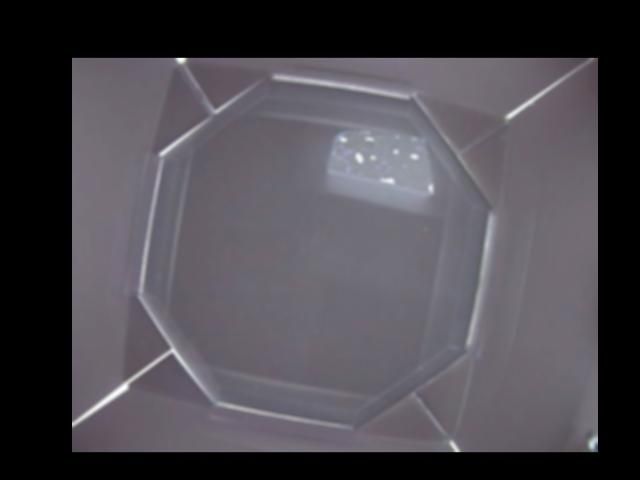China: (330, 129, 434, 196)
